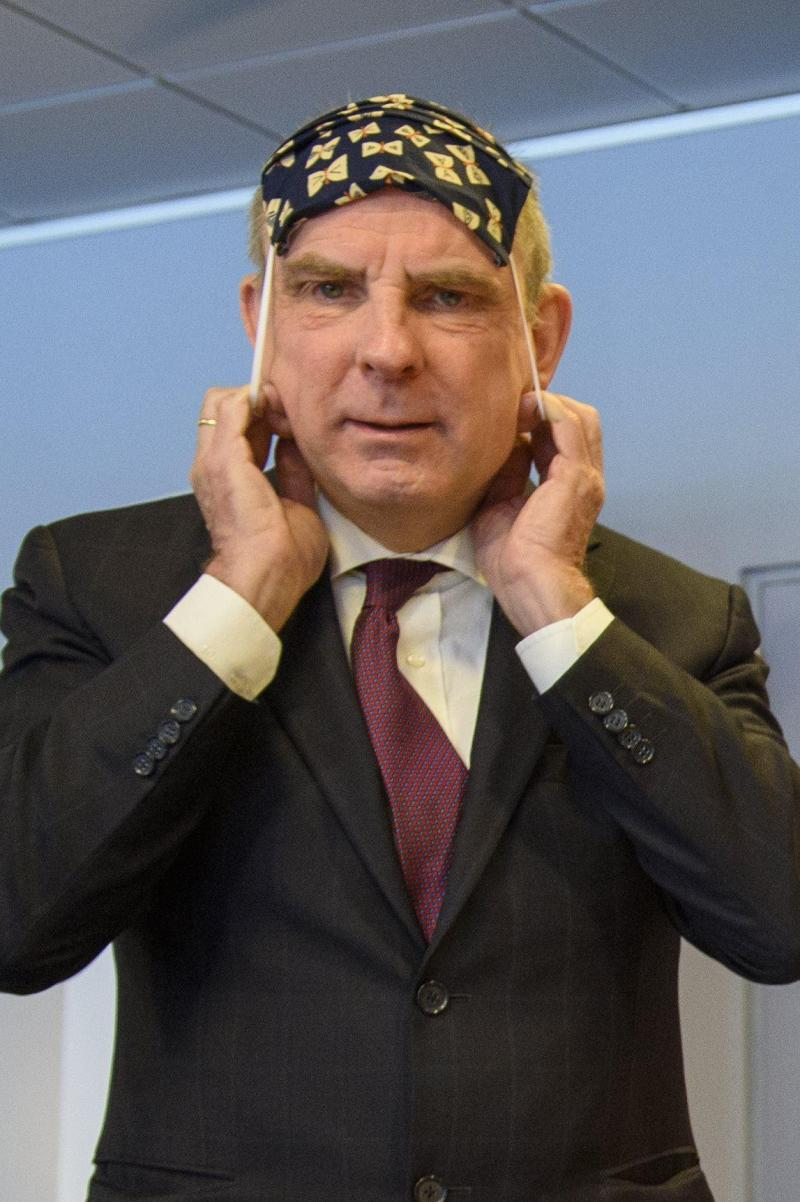with_incorrect_mask: (270, 178, 526, 547)
